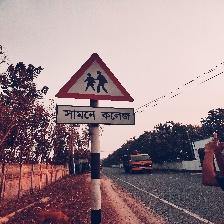College-in-front: (41, 32, 154, 141)
